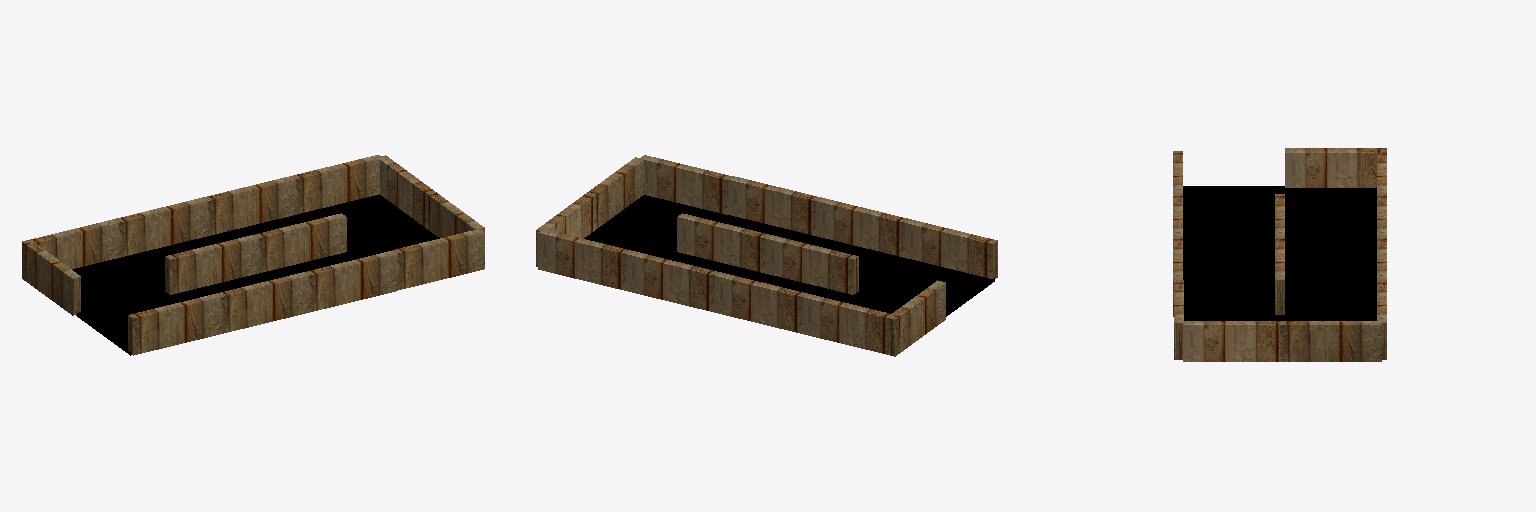
3 renders of one model, left to right at view 1: azimuth 30°, elevation 25°; view 2: azimuth 150°, elevation 25°; view 3: azimuth 270°, elevation 25°, orthographic.
Parts seen in each view (by area): view 1: group6_pasted__group1_pasted__pasted__pCube1; view 2: group6_pasted__group1_pasted__pasted__pCube1; view 3: group6_pasted__group1_pasted__pasted__pCube1.
Boxes of the visible parts, x1=… form: group6_pasted__group1_pasted__pasted__pCube1: x1=22, y1=155, x2=484, y2=355; group6_pasted__group1_pasted__pasted__pCube1: x1=536, y1=155, x2=997, y2=356; group6_pasted__group1_pasted__pasted__pCube1: x1=1173, y1=148, x2=1386, y2=361.
Bounding box in the file's own units: 205 × 21 × 105.
Materials: 21 (1 with a texture image).